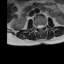CCS_normal: (39, 22, 41, 32)
LFS_normal: (43, 22, 45, 29)
LLS_normal: (41, 23, 43, 30)
RFS_normal: (35, 23, 37, 29)
RLS_normal: (37, 23, 39, 30)
